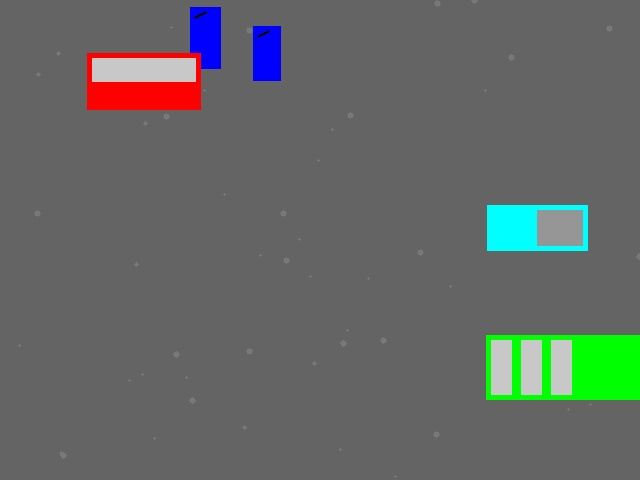bus: (486, 335, 640, 399)
car: (87, 53, 200, 109)
motorcycle: (190, 7, 220, 68), (253, 26, 280, 80)
truck: (487, 205, 587, 250)
